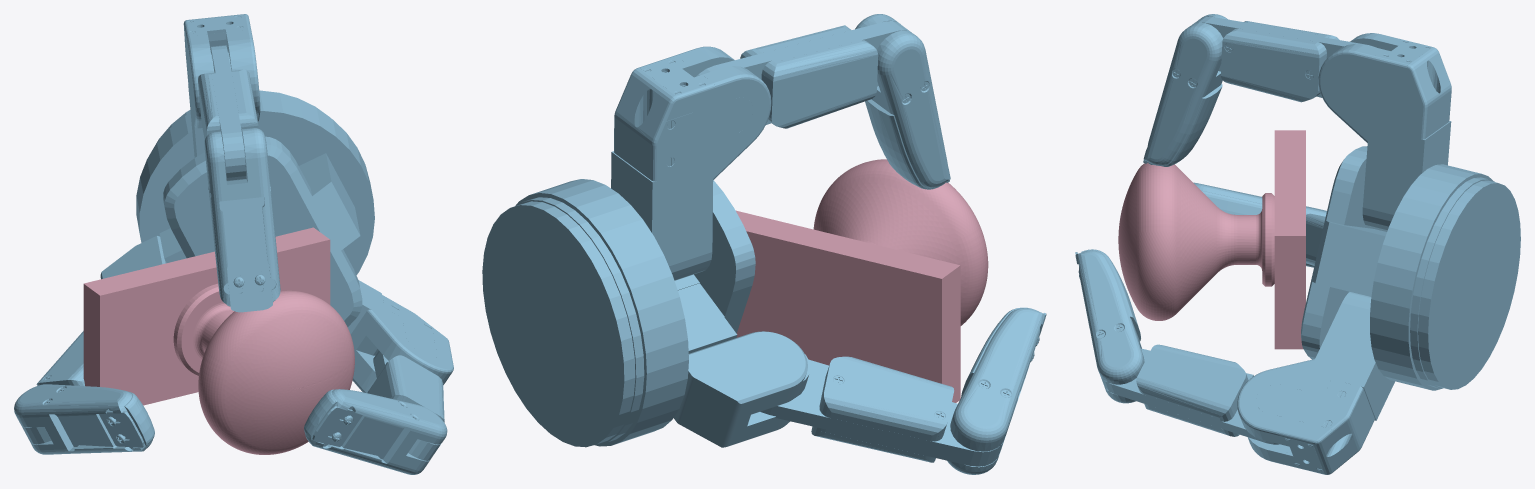
The model's file is Barrett_contactdb+door_knob_mesh.glb.
The picture shows the model from 3 angles, left to right: view 1: azimuth 30°, elevation 25°; view 2: azimuth 150°, elevation 25°; view 3: azimuth 270°, elevation 25°; orthographic projection. The views are drawn at different scales.
Parts seen in each view (by area): view 1: world; view 2: world; view 3: world.
Boxes of the visible parts, x1,y1,x2,y2 form: world: (14, 14, 453, 474); world: (482, 14, 1046, 474); world: (1075, 14, 1520, 474).
Size of the model in its own units: 0.1874 by 0.1568 by 0.1784.
